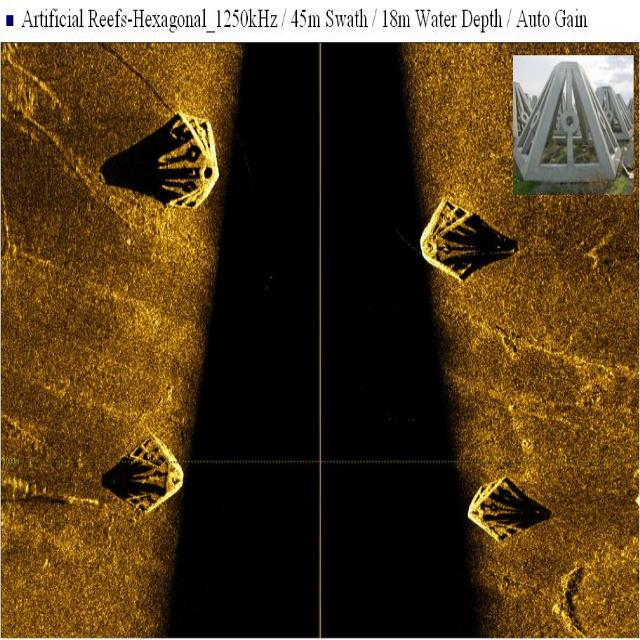other: (451, 448, 550, 554), (139, 93, 220, 221), (410, 182, 492, 299), (111, 418, 192, 528)
